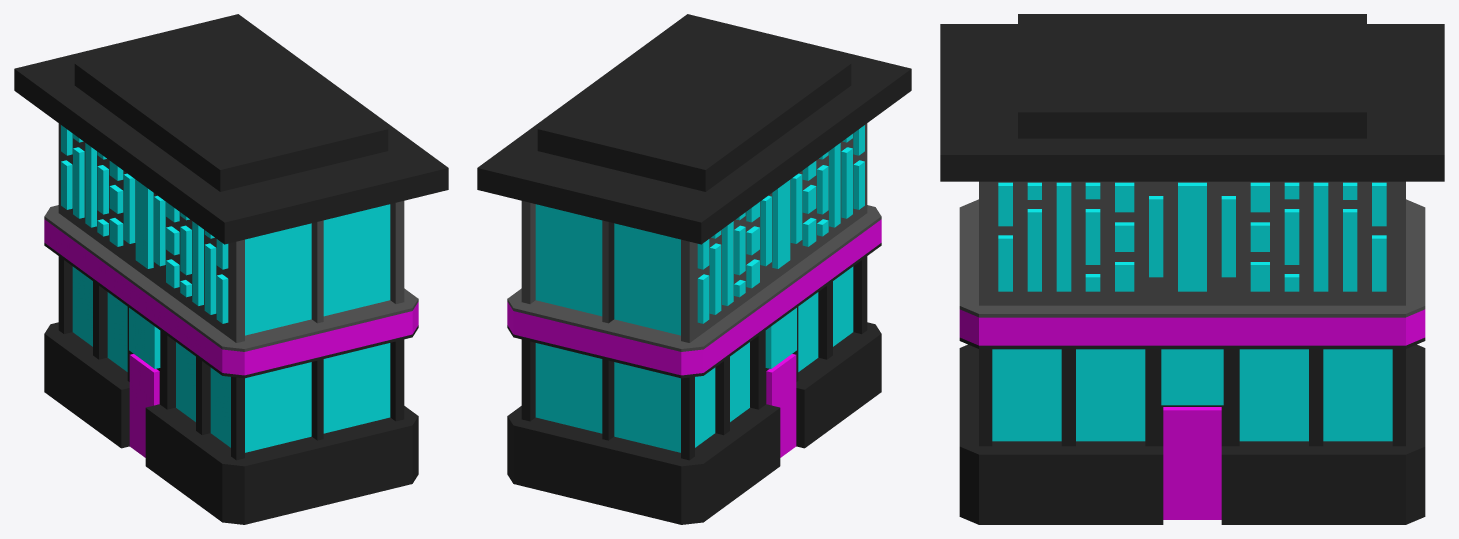
Rendered from Edificio 9.fbx.
3 views of the same model, side by side, from view 1: azimuth 30°, elevation 25°; view 2: azimuth 150°, elevation 25°; view 3: azimuth 270°, elevation 25° (orthographic). The views are drawn at different scales.
Parts seen in each view (by area): view 1: [5114], Pared 2 [5282], Pared 1 [5279], [5577], [5441]; view 2: [5114], Pared 2 [5282], Pared 1 [5302], [5550], [5386]; view 3: Pared 2 [5285], [5114], Pared 1 [5279], Pared 1 [5302], [5363], [5606], [5311], [5493].
Boxes of the visible parts, x1,y1,x2,y2 form: [5114]: [14, 14, 448, 244]; Pared 2 [5282]: [44, 123, 236, 521]; Pared 1 [5279]: [236, 201, 412, 524]; [5577]: [222, 460, 244, 524]; [5441]: [222, 343, 244, 378]; [5114]: [477, 14, 911, 244]; Pared 2 [5282]: [689, 123, 881, 521]; Pared 1 [5302]: [513, 201, 689, 524]; [5550]: [681, 460, 703, 524]; [5386]: [681, 343, 703, 378]; Pared 2 [5285]: [979, 181, 1405, 524]; [5114]: [940, 14, 1444, 181]; Pared 1 [5279]: [959, 207, 978, 446]; Pared 1 [5302]: [1406, 207, 1425, 446]; [5363]: [1406, 446, 1425, 524]; [5606]: [959, 446, 978, 524]; [5311]: [1406, 305, 1425, 348]; [5493]: [959, 305, 978, 348].
Size of the model in its own units: 315 by 512 by 453.
